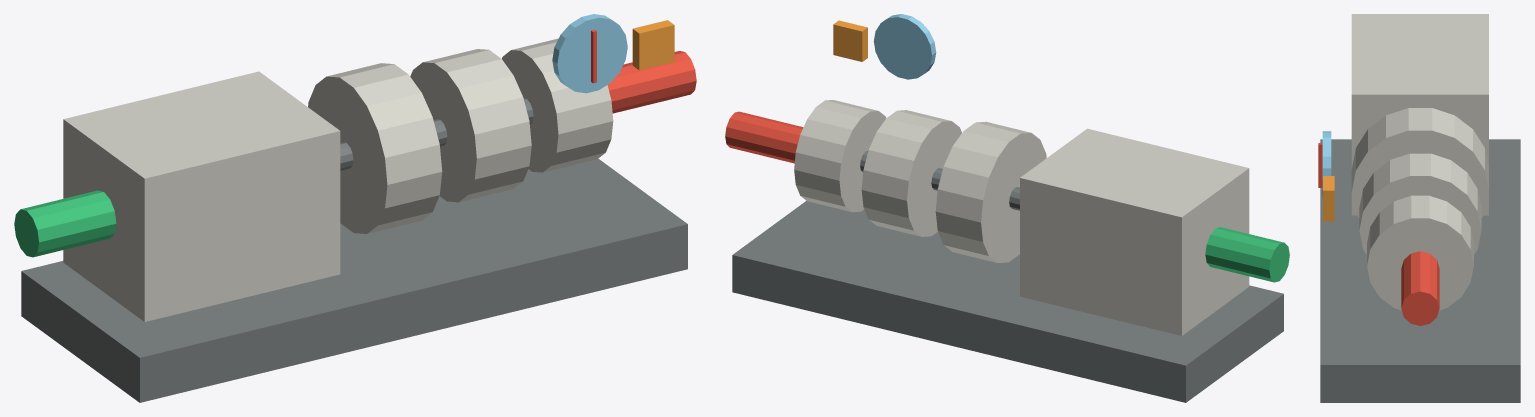
Rendered from compressor_block.fbx.
3 views of the same model, side by side, from view 1: azimuth 30°, elevation 25°; view 2: azimuth 150°, elevation 25°; view 3: azimuth 270°, elevation 25° (orthographic). The views are drawn at different scales.
Parts seen in each view (by area): view 1: Compressor_Static/Base_Frame, Compressor_Static/Motor_Block, Compressor_Interactive/Rotating_Stage_1, Compressor_Interactive/Rotating_Stage_2, Compressor_Interactive/Rotating_Stage_3, Compressor_Static/Inlet_Low_Pressure, Compressor_UI_Target/Pressure_Gauge_Dial, Compressor_Interactive/Outlet_High_Pressure_Glow, Compressor_UI_Target/Overpressure_Indicator, Compressor_Interactive/Rotating_Shaft; view 2: Compressor_Static/Base_Frame, Compressor_Static/Motor_Block, Compressor_Interactive/Rotating_Stage_1, Compressor_Interactive/Rotating_Stage_2, Compressor_Interactive/Rotating_Stage_3, Compressor_Static/Inlet_Low_Pressure, Compressor_UI_Target/Pressure_Gauge_Dial, Compressor_Interactive/Outlet_High_Pressure_Glow, Compressor_UI_Target/Overpressure_Indicator, Compressor_Interactive/Rotating_Shaft; view 3: Compressor_Static/Base_Frame, Compressor_Static/Motor_Block, Compressor_Interactive/Rotating_Stage_3, Compressor_Interactive/Rotating_Stage_1, Compressor_Interactive/Rotating_Stage_2, Compressor_Interactive/Outlet_High_Pressure_Glow, Compressor_UI_Target/Overpressure_Indicator, Compressor_UI_Target/Pressure_Gauge_Dial, Compressor_Interactive/Pressure_Gauge_Needle.
Boxes of the visible parts, box(x1,y1,x2,y2) form: Compressor_Static/Base_Frame: box(21, 158, 687, 402); Compressor_Static/Motor_Block: box(63, 71, 340, 321); Compressor_Interactive/Rotating_Stage_1: box(308, 63, 442, 233); Compressor_Interactive/Rotating_Stage_2: box(410, 49, 531, 202); Compressor_Interactive/Rotating_Stage_3: box(502, 38, 613, 172); Compressor_Static/Inlet_Low_Pressure: box(14, 190, 116, 257); Compressor_UI_Target/Pressure_Gauge_Dial: box(552, 14, 627, 93); Compressor_Interactive/Outlet_High_Pressure_Glow: box(607, 51, 696, 113); Compressor_UI_Target/Overpressure_Indicator: box(632, 20, 674, 70); Compressor_Interactive/Rotating_Shaft: box(340, 98, 533, 170); Compressor_Static/Base_Frame: box(732, 201, 1283, 402); Compressor_Static/Motor_Block: box(1020, 128, 1249, 335); Compressor_Interactive/Rotating_Stage_1: box(935, 121, 1046, 262); Compressor_Interactive/Rotating_Stage_2: box(861, 110, 961, 236); Compressor_Interactive/Rotating_Stage_3: box(794, 100, 886, 212); Compressor_Static/Inlet_Low_Pressure: box(1205, 227, 1289, 282); Compressor_UI_Target/Pressure_Gauge_Dial: box(873, 14, 936, 79); Compressor_Interactive/Outlet_High_Pressure_Glow: box(725, 111, 803, 163); Compressor_UI_Target/Overpressure_Indicator: box(833, 20, 867, 61); Compressor_Interactive/Rotating_Shaft: box(860, 151, 1019, 210); Compressor_Static/Base_Frame: box(1320, 139, 1520, 402); Compressor_Static/Motor_Block: box(1351, 14, 1488, 215); Compressor_Interactive/Rotating_Stage_3: box(1367, 195, 1473, 310); Compressor_Interactive/Rotating_Stage_1: box(1351, 108, 1488, 217); Compressor_Interactive/Rotating_Stage_2: box(1359, 153, 1481, 254); Compressor_Interactive/Outlet_High_Pressure_Glow: box(1401, 251, 1439, 325); Compressor_UI_Target/Overpressure_Indicator: box(1323, 176, 1334, 221); Compressor_UI_Target/Pressure_Gauge_Dial: box(1322, 131, 1331, 199); Compressor_Interactive/Pressure_Gauge_Needle: box(1318, 143, 1322, 187).
Size of the model in its own units: 336 by 133 by 106.
